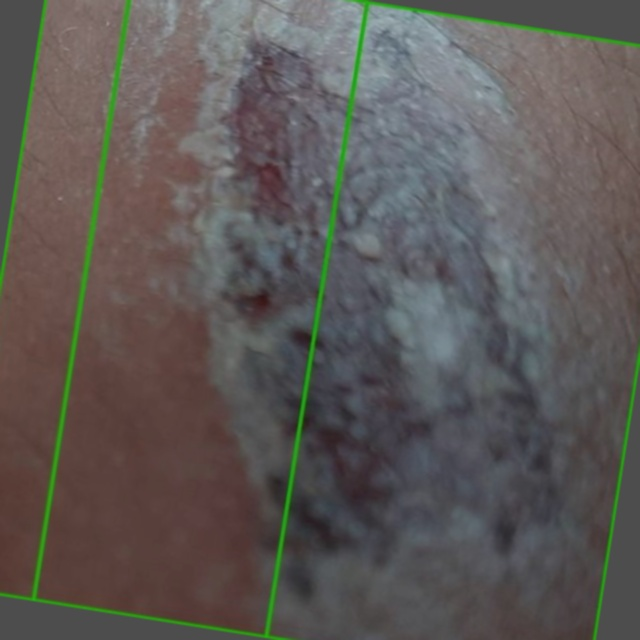Atopic Dermatitis: (33, 0, 639, 639), (0, 0, 367, 637)
